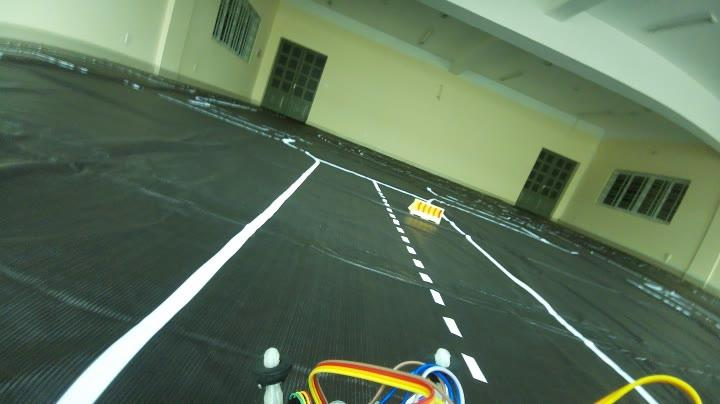roadblock: (402, 195, 446, 228)
